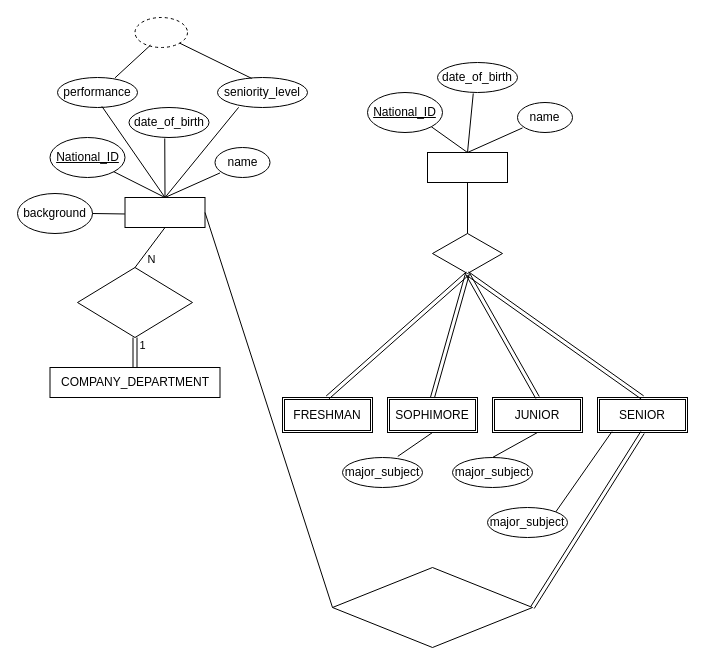
Some shapes in this 705 by 665 pixel diagram are drawn without their labels. Here are the shapes that lost their labels. From the top down, the box of each, then its label:
(134, 16, 188, 48): salary
(426, 152, 508, 182): STUDENT
(124, 196, 205, 228): EMPLOYEE
(432, 232, 502, 274): IS_A
(76, 266, 192, 338): WORKS_FOR
(332, 566, 532, 648): IS_THESIS_ADVISER_FOR
